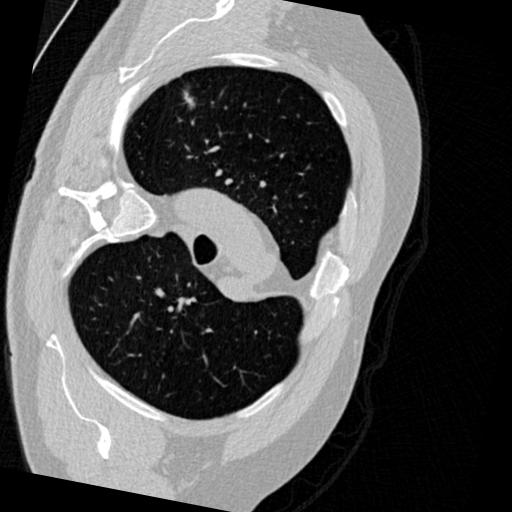nodule: (177, 88, 202, 113)
